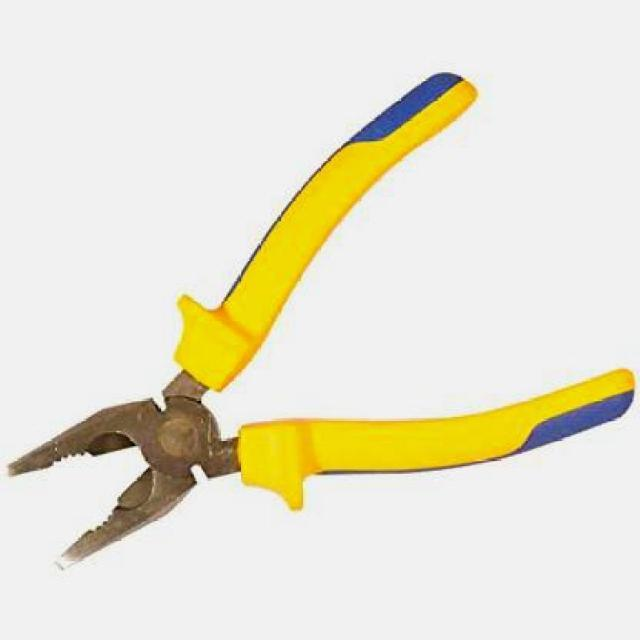pliers: (10, 70, 632, 576)
